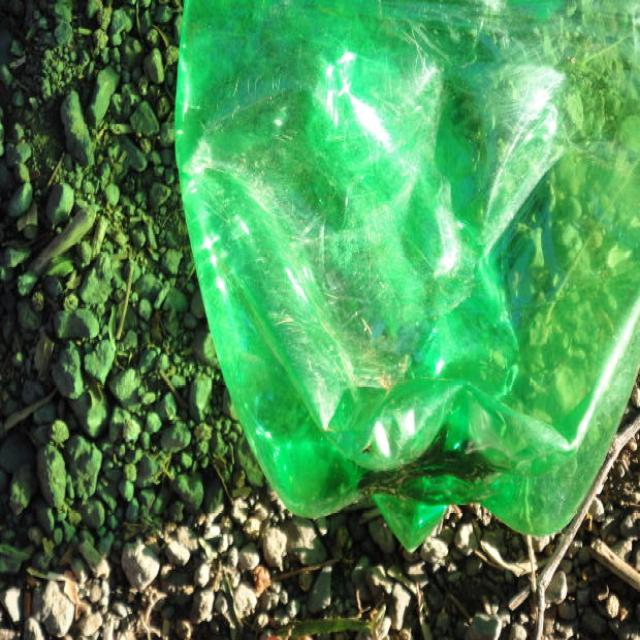plastic: (149, 25, 592, 548)
